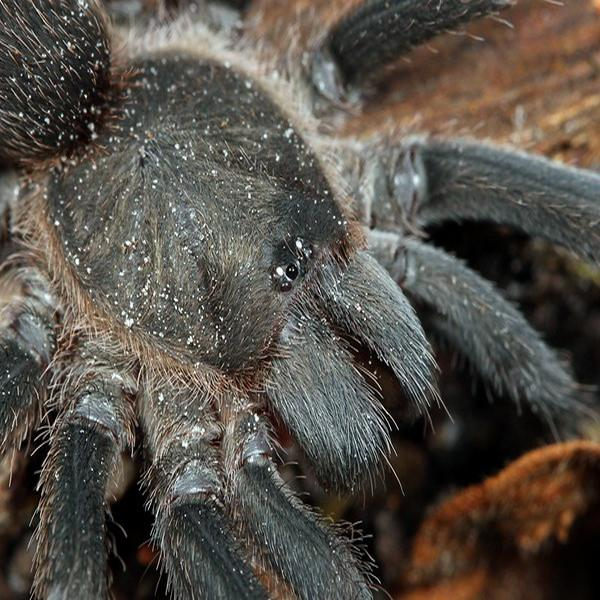Tarantula_Spider: (1, 1, 599, 600)
